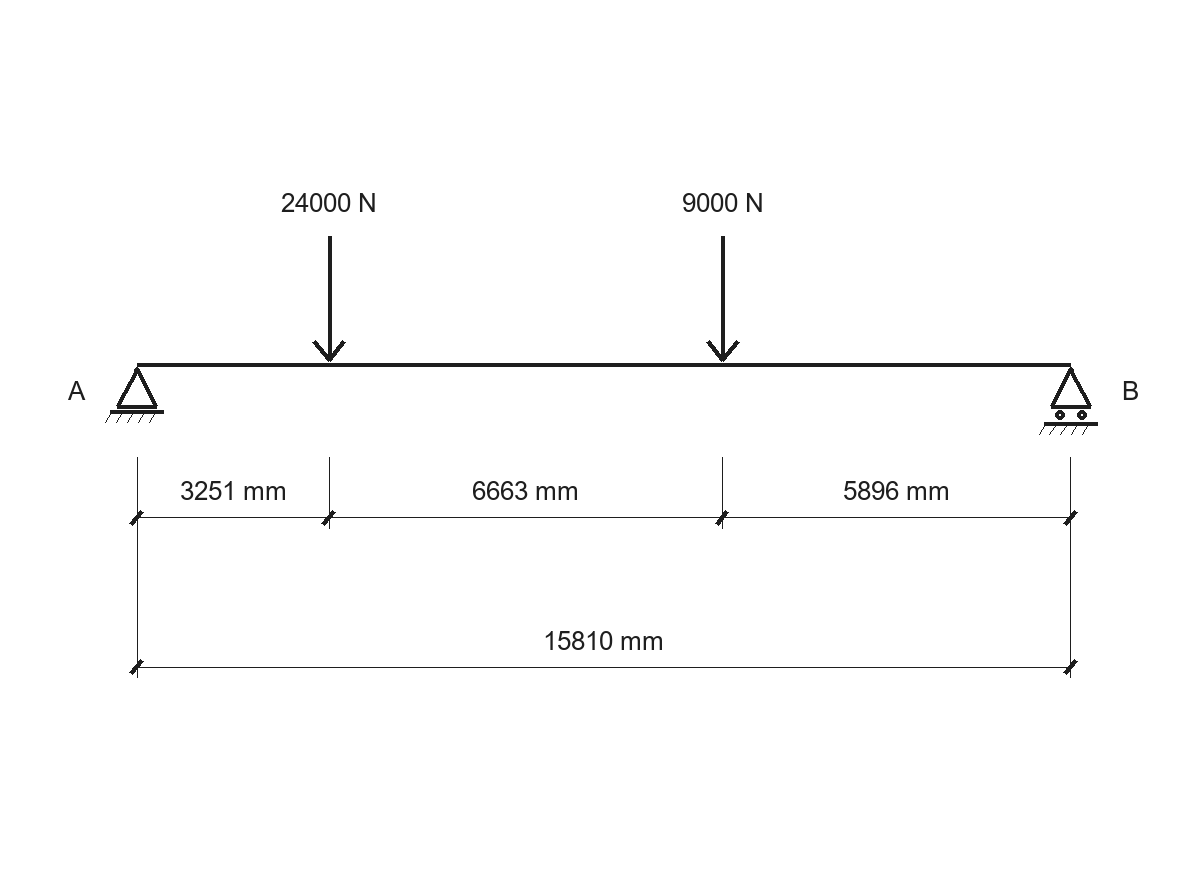pin_support: (105, 367, 164, 423)
point_load: (312, 236, 346, 362), (706, 236, 740, 362)
roller_support: (1039, 367, 1098, 435)
